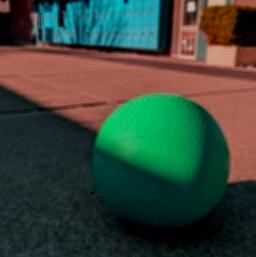algae: (86, 85, 232, 228)
